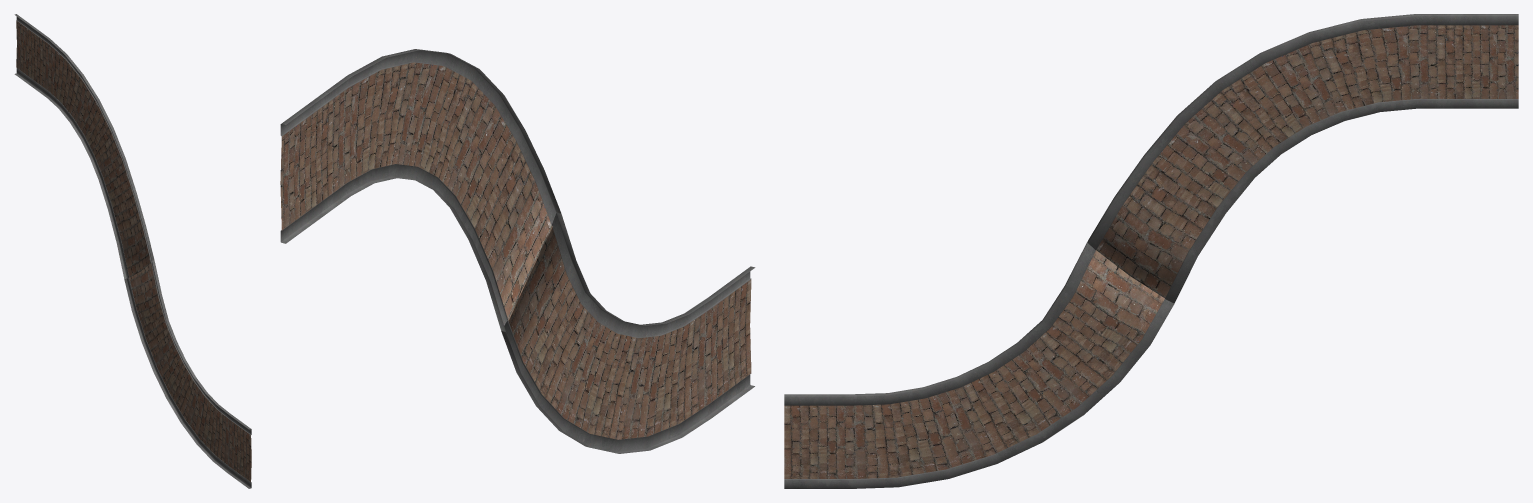
Rendered from cP_Pathway01_sCurve.dae.
3 views of the same model, side by side, from view 1: azimuth 30°, elevation 25°; view 2: azimuth 150°, elevation 25°; view 3: azimuth 270°, elevation 25° (orthographic). The views are drawn at different scales.
Visible parts, largest first — view 1: cP_Pathway01_sCurve.001; view 2: cP_Pathway01_sCurve.001; view 3: cP_Pathway01_sCurve.001.
Boxes of the visible parts, left/top/right/bottom form: cP_Pathway01_sCurve.001: left=14, top=14, right=251, bottom=488; cP_Pathway01_sCurve.001: left=280, top=49, right=755, bottom=453; cP_Pathway01_sCurve.001: left=784, top=14, right=1518, bottom=488.
Size of the model in its own units: 0.0939 by 14 by 9.95.
